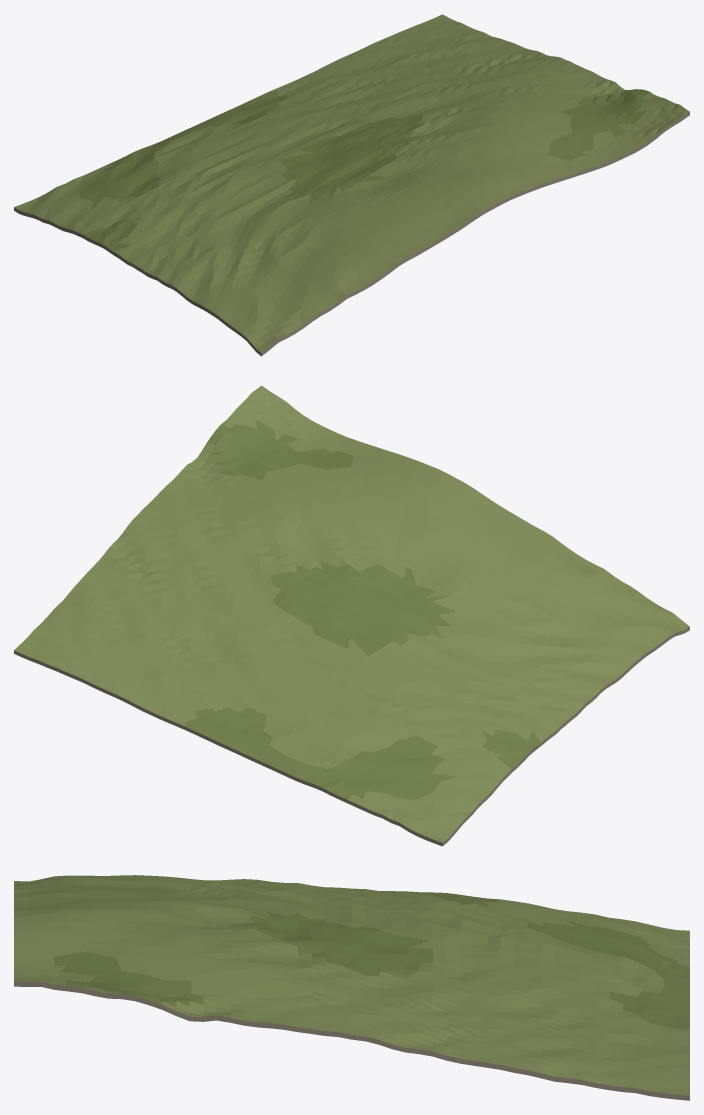
Rendered from parca_+3_-6-uzak.glb.
The picture shows the model from 3 angles, top to bottom: view 1: azimuth 30°, elevation 25°; view 2: azimuth 150°, elevation 25°; view 3: azimuth 270°, elevation 25°; orthographic projection. The views are drawn at different scales.
Parts seen in each view (by area): view 1: parca_+3_-6_arazi_uzak; view 2: parca_+3_-6_arazi_uzak; view 3: parca_+3_-6_arazi_uzak.
Part boxes in pixels (x1,y1,x2,y2): parca_+3_-6_arazi_uzak: [14, 14, 689, 356]; parca_+3_-6_arazi_uzak: [14, 385, 689, 846]; parca_+3_-6_arazi_uzak: [14, 875, 689, 1100].
Size of the model in its own units: 1000 by 391 by 1000.
